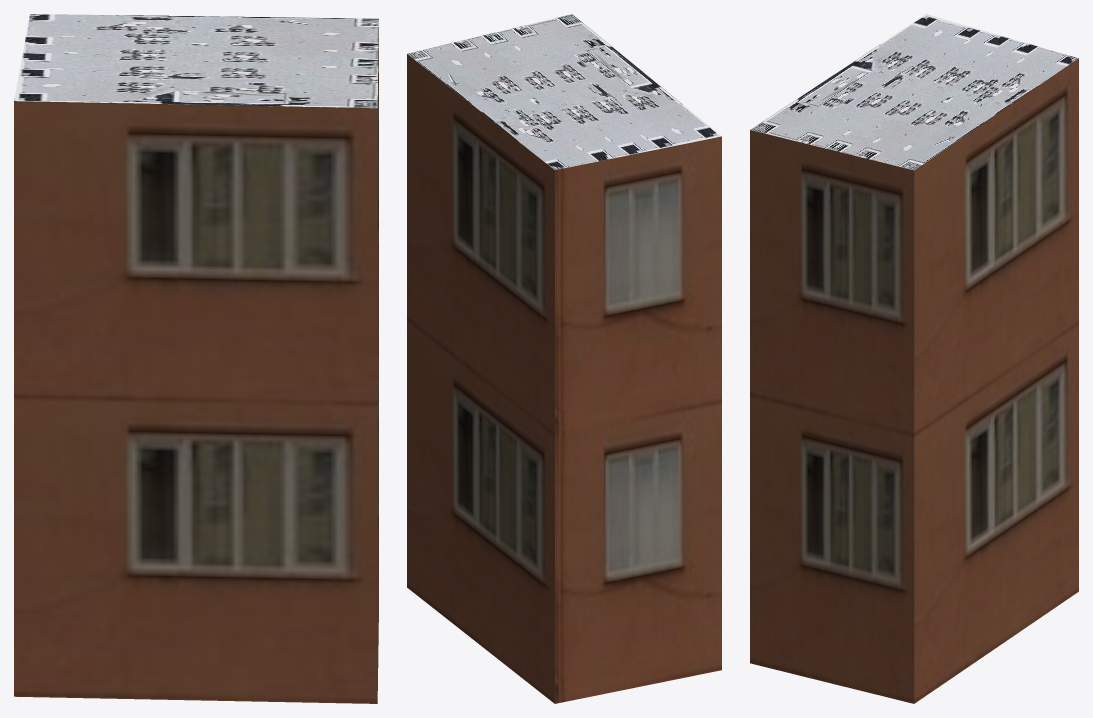
File: ResTex__3409.fbx
3 views of the same model, side by side, from view 1: azimuth 30°, elevation 25°; view 2: azimuth 150°, elevation 25°; view 3: azimuth 270°, elevation 25° (orthographic). The views are drawn at different scales.
Parts seen in each view (by area): view 1: CityEngineMaterial_20_m, CityEngineMaterial_4_m; view 2: CityEngineMaterial_20_m, CityEngineMaterial_4_m; view 3: CityEngineMaterial_20_m, CityEngineMaterial_4_m.
Boxes of the visible parts, x1,y1,x2,y2 form: CityEngineMaterial_20_m: (14, 27, 378, 703); CityEngineMaterial_4_m: (14, 14, 378, 108); CityEngineMaterial_20_m: (407, 54, 721, 703); CityEngineMaterial_4_m: (407, 14, 721, 169); CityEngineMaterial_20_m: (750, 58, 1078, 703); CityEngineMaterial_4_m: (750, 14, 1078, 170).
Bounding box in the file's own units: 3.78 × 6 × 3.35.
2 materials, 2 textured.
